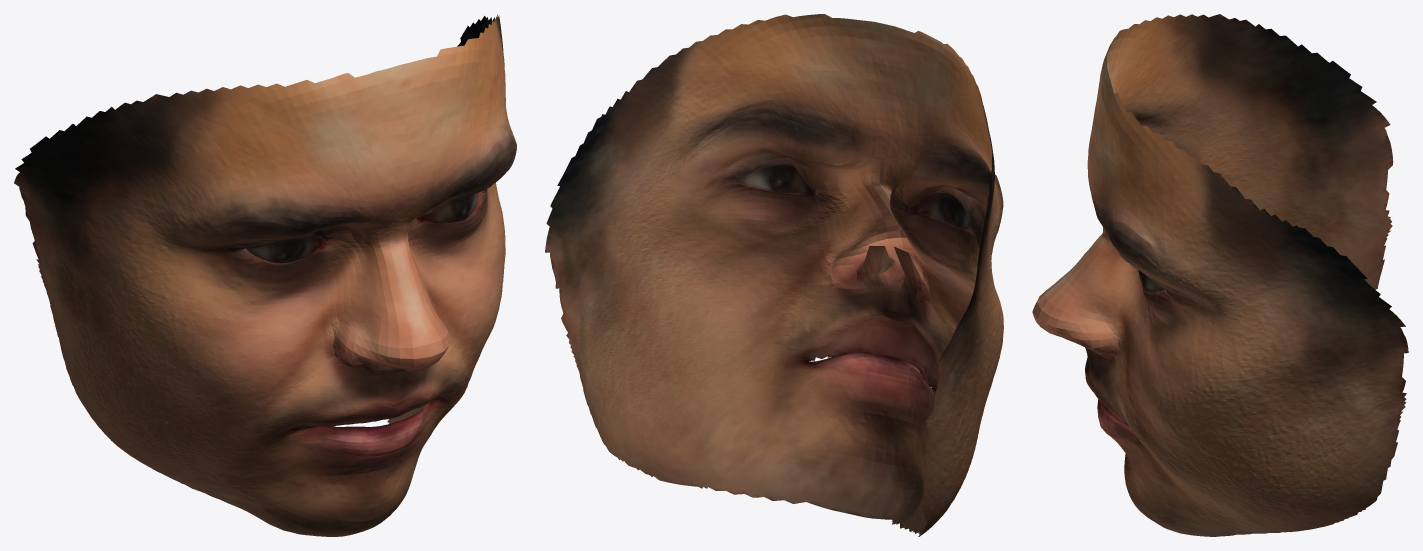
Rendered from 3DDFAV3.obj.
The picture shows the model from 3 angles, left to right: view 1: azimuth 30°, elevation 25°; view 2: azimuth 150°, elevation 25°; view 3: azimuth 270°, elevation 25°; orthographic projection. The views are drawn at different scales.
Size of the model in its own units: 1.39 by 1.49 by 1.09.
